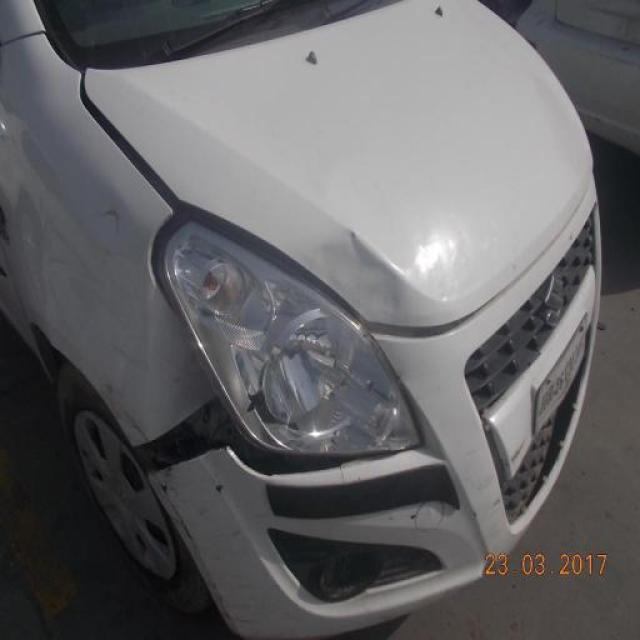dent: (306, 235, 403, 322)
scratch: (155, 489, 253, 626)
tear: (133, 395, 395, 478)
